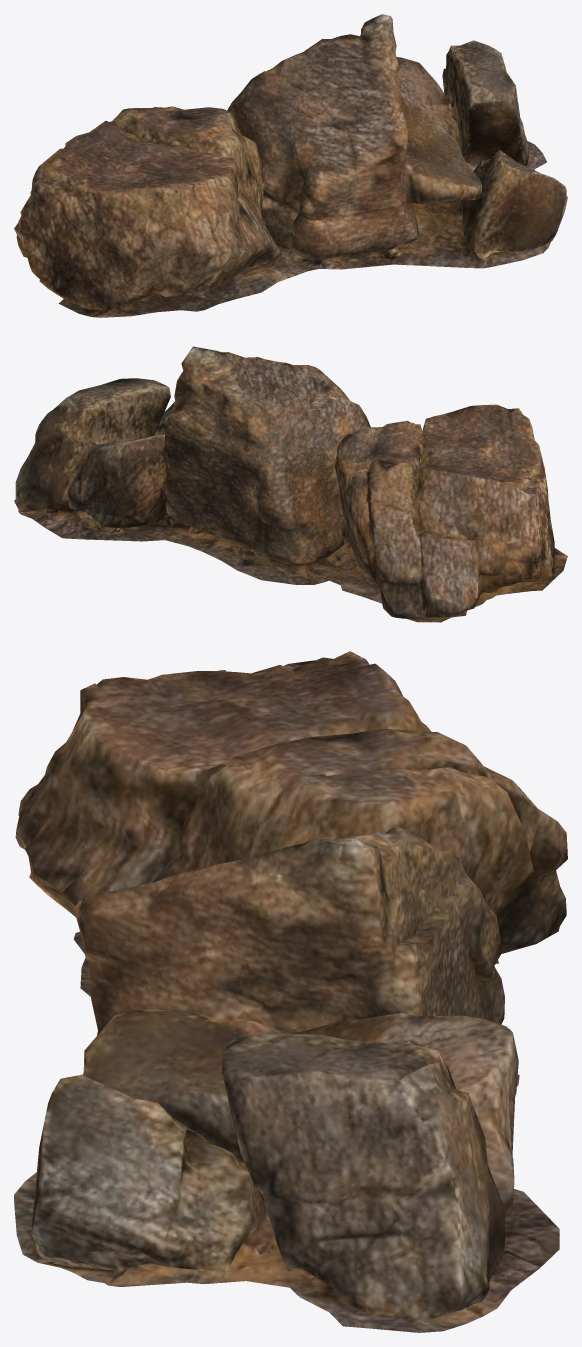
File: boulder_b-BSA1xByi.glb
The picture shows the model from 3 angles, top to bottom: view 1: azimuth 30°, elevation 25°; view 2: azimuth 150°, elevation 25°; view 3: azimuth 270°, elevation 25°; orthographic projection. The views are drawn at different scales.
Parts seen in each view (by area): view 1: boulder_02; view 2: boulder_02; view 3: boulder_02.
Boxes of the visible parts, x1,y1,x2,y2 form: boulder_02: [14, 14, 567, 317]; boulder_02: [14, 346, 567, 622]; boulder_02: [14, 651, 567, 1332].
Size of the model in its own units: 2.52 by 0.8804 by 1.23.
Materials: 1 (1 with a texture image).
